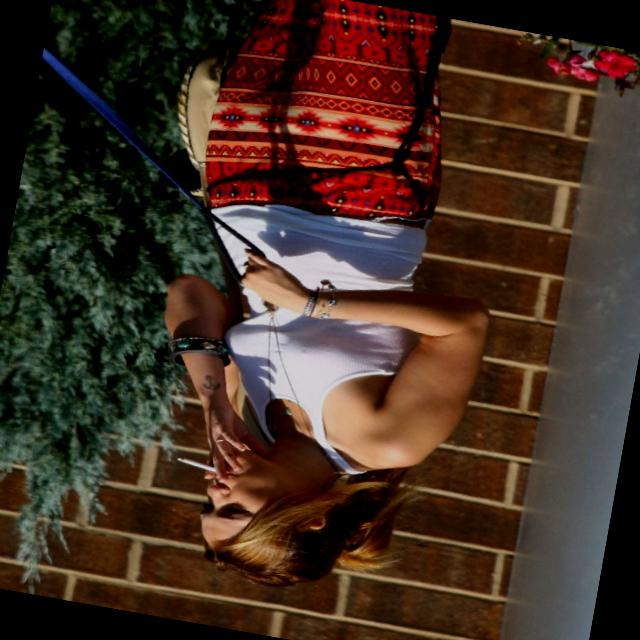cigarette: (162, 446, 228, 484)
